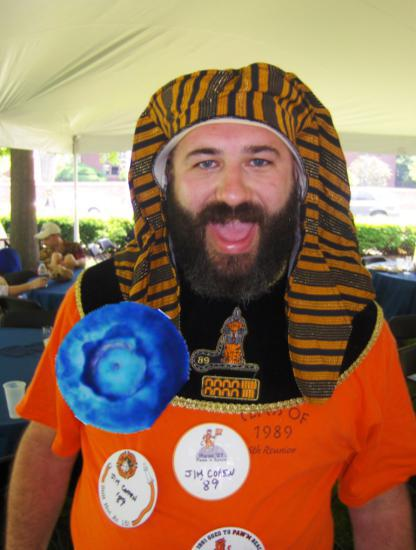Huckleberry: (53, 298, 190, 435)
